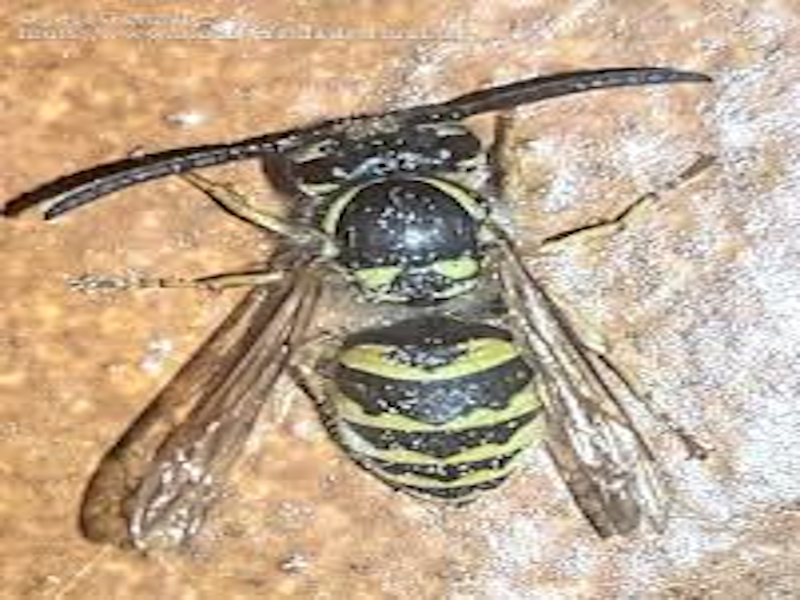chax: (1, 51, 731, 575)
